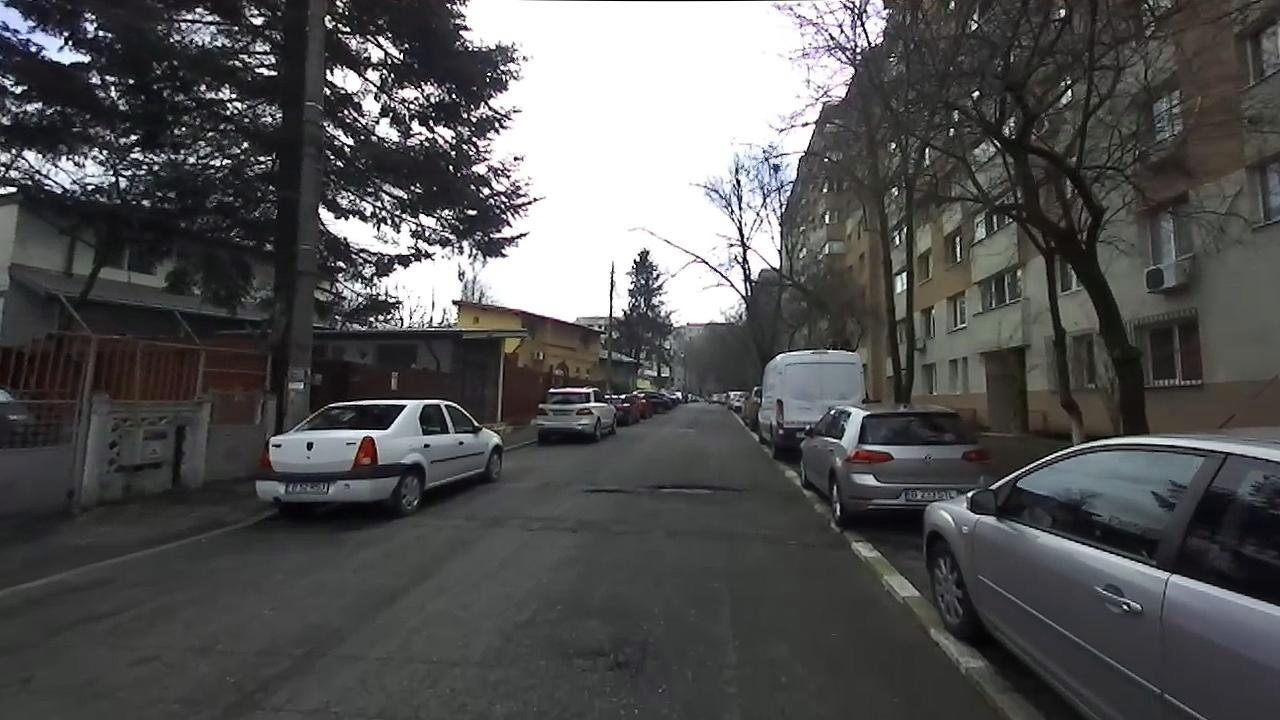pothole: (648, 481, 747, 499), (587, 646, 639, 676), (581, 485, 635, 497)
